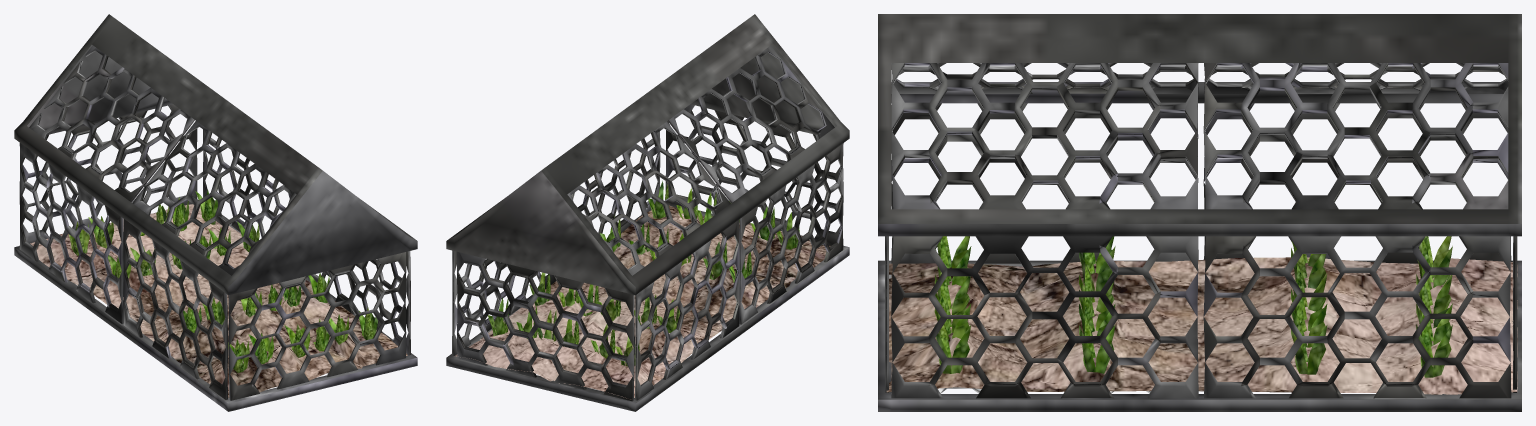
The model's file is Vivero.fbx.
3 renders of one model, left to right at view 1: azimuth 30°, elevation 25°; view 2: azimuth 150°, elevation 25°; view 3: azimuth 270°, elevation 25°, orthographic. The views are drawn at different scales.
Parts seen in each view (by area): view 1: Cylinder, Grid, Cube; view 2: Cylinder, Grid, Cube; view 3: Cylinder, Grid, Cube.
Part boxes in pixels (box(x1,y1,x2,y2)): Cylinder: box(14, 14, 417, 411); Grid: box(30, 204, 407, 397); Cube: box(68, 190, 377, 372); Cylinder: box(446, 14, 849, 411); Grid: box(454, 205, 830, 399); Cube: box(488, 180, 799, 366); Cylinder: box(878, 14, 1521, 411); Grid: box(886, 257, 1517, 394); Cube: box(934, 236, 1452, 377).
Bounding box in the file's own units: 13.23 × 14.59 × 25.92.
